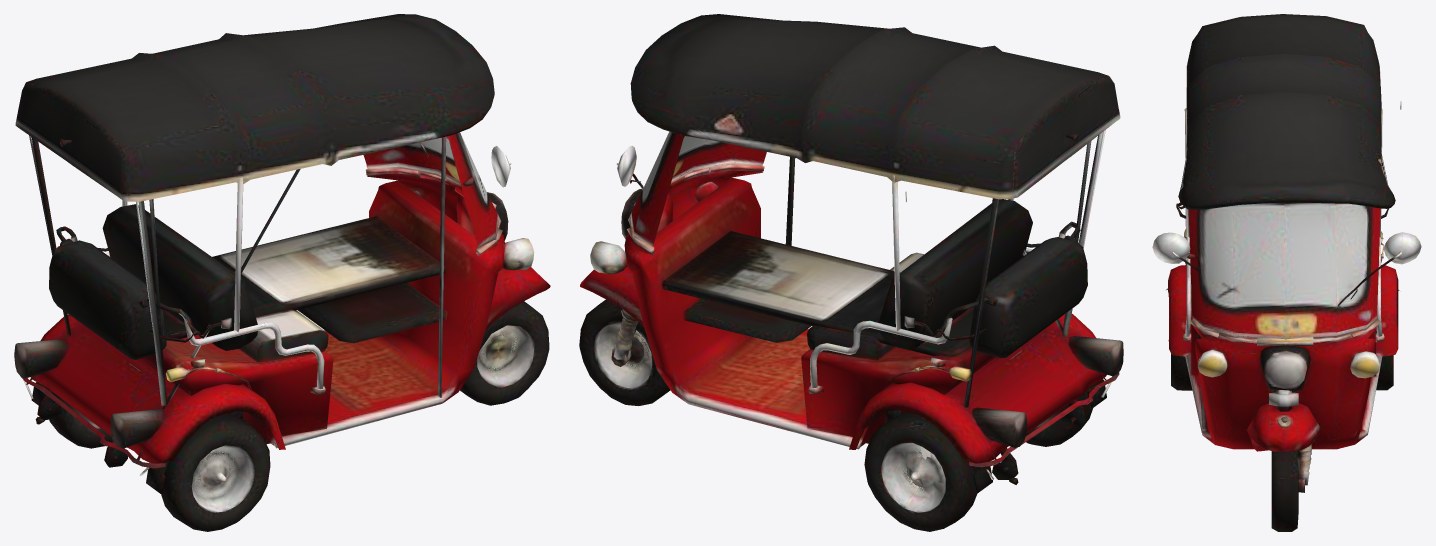
The model's file is tuktuk.glb.
3 views of the same model, side by side, from view 1: azimuth 30°, elevation 25°; view 2: azimuth 150°, elevation 25°; view 3: azimuth 270°, elevation 25° (orthographic). The views are drawn at different scales.
Parts seen in each view (by area): view 1: tripo_node_58efe60b-c067-4e97-8e3b-85c1a8eb2fcb; view 2: tripo_node_58efe60b-c067-4e97-8e3b-85c1a8eb2fcb; view 3: tripo_node_58efe60b-c067-4e97-8e3b-85c1a8eb2fcb.
Boxes of the visible parts, x1,y1,x2,y2 form: tripo_node_58efe60b-c067-4e97-8e3b-85c1a8eb2fcb: [14, 14, 550, 531]; tripo_node_58efe60b-c067-4e97-8e3b-85c1a8eb2fcb: [579, 14, 1123, 531]; tripo_node_58efe60b-c067-4e97-8e3b-85c1a8eb2fcb: [1152, 14, 1421, 531].
Size of the model in its own units: 0.998 by 0.8066 by 0.5684.
Materials: 1 (1 with a texture image).
